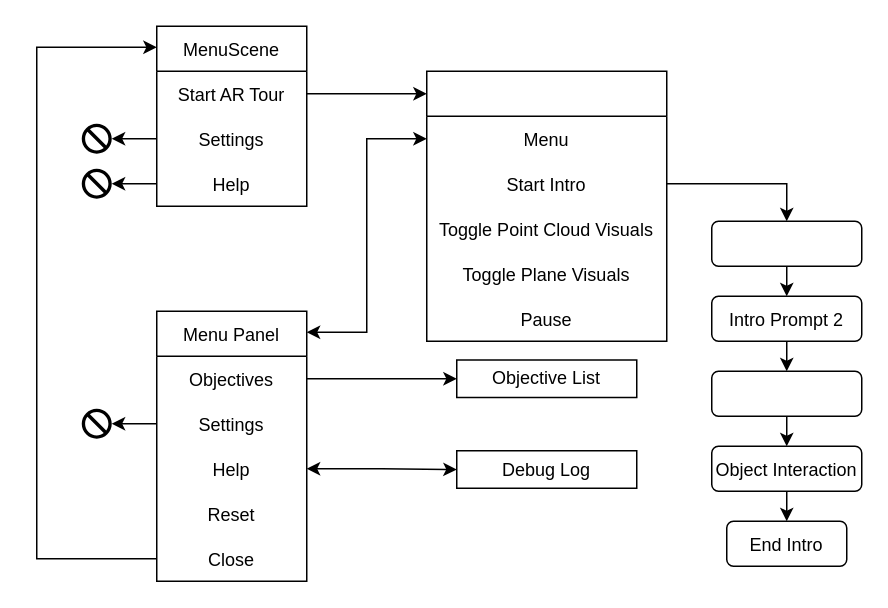
This 888x608 diagram has some shape labels left out. The box of each missing label's shape, as (x1, y1, x2, y2) in pixels:
ARScene: (425, 70, 667, 341)
Image Scanning: (710, 370, 862, 416)
Intro Prompt 1: (710, 220, 862, 266)
